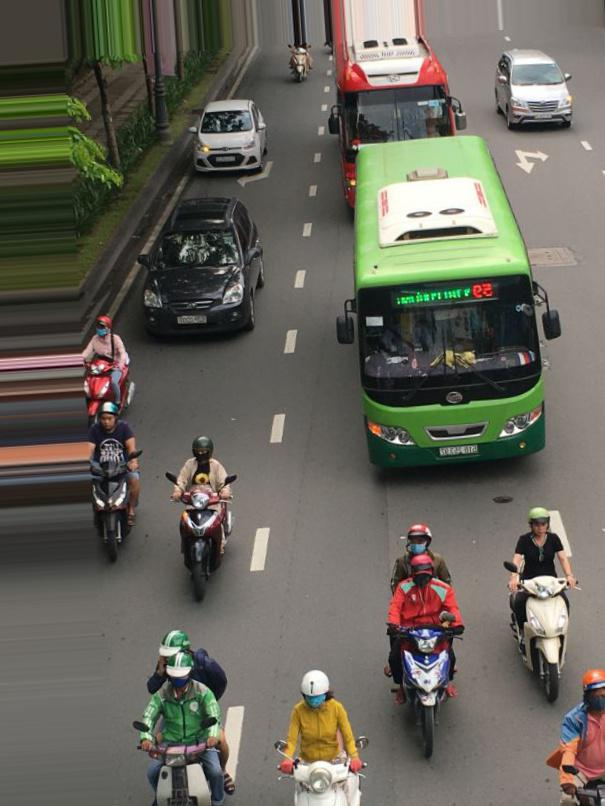bus: (352, 111, 545, 476), (333, 2, 459, 216)
car: (141, 197, 266, 343), (495, 49, 577, 134), (194, 98, 266, 174)
motorbike: (510, 564, 580, 702), (392, 627, 458, 759), (174, 483, 235, 603), (275, 737, 367, 805), (92, 459, 137, 565), (84, 355, 135, 431), (287, 41, 312, 82)
